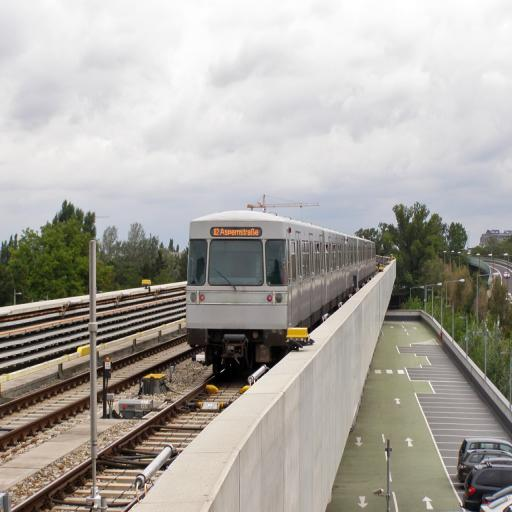Silberpfeil: (183, 208, 378, 342)
